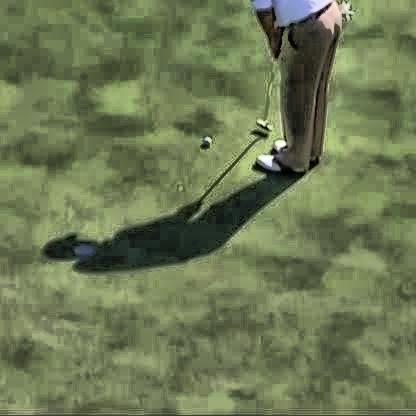golfball: (201, 135, 212, 145)
